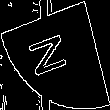N_E: (31, 28, 79, 82)
